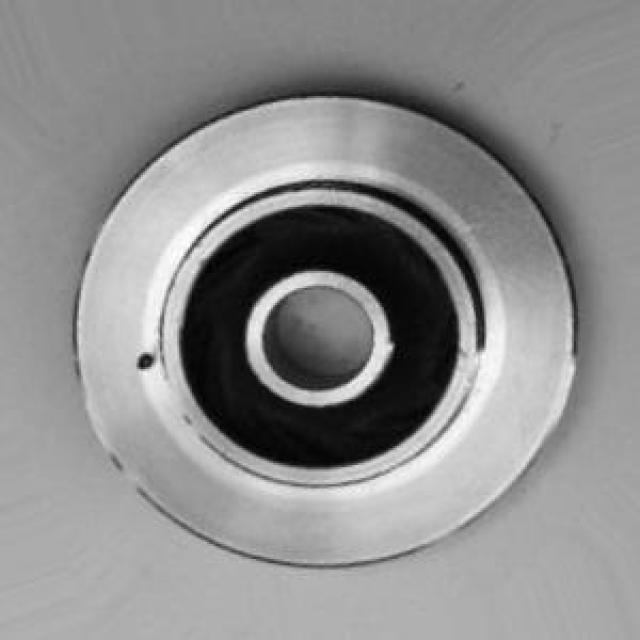Defect: (133, 350, 161, 371)
